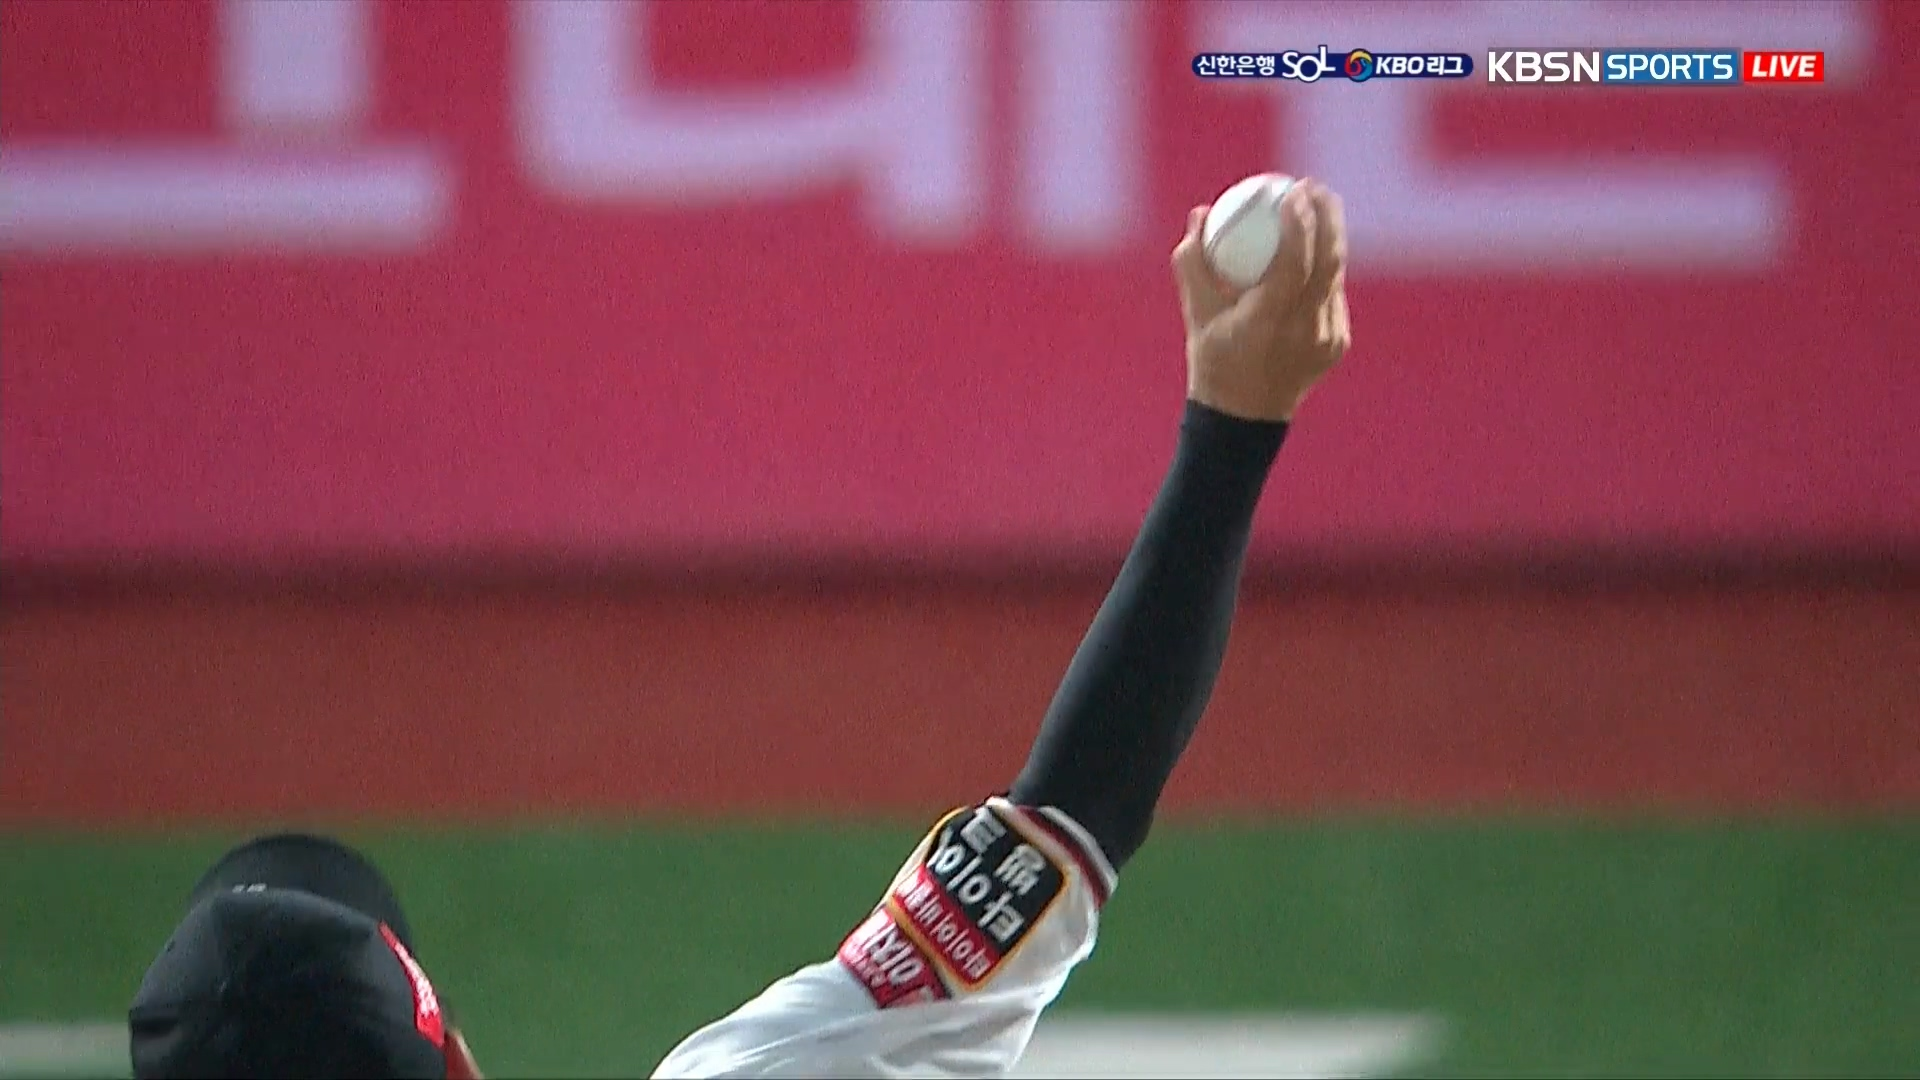zoomin_hand: (1021, 164, 1352, 868)
